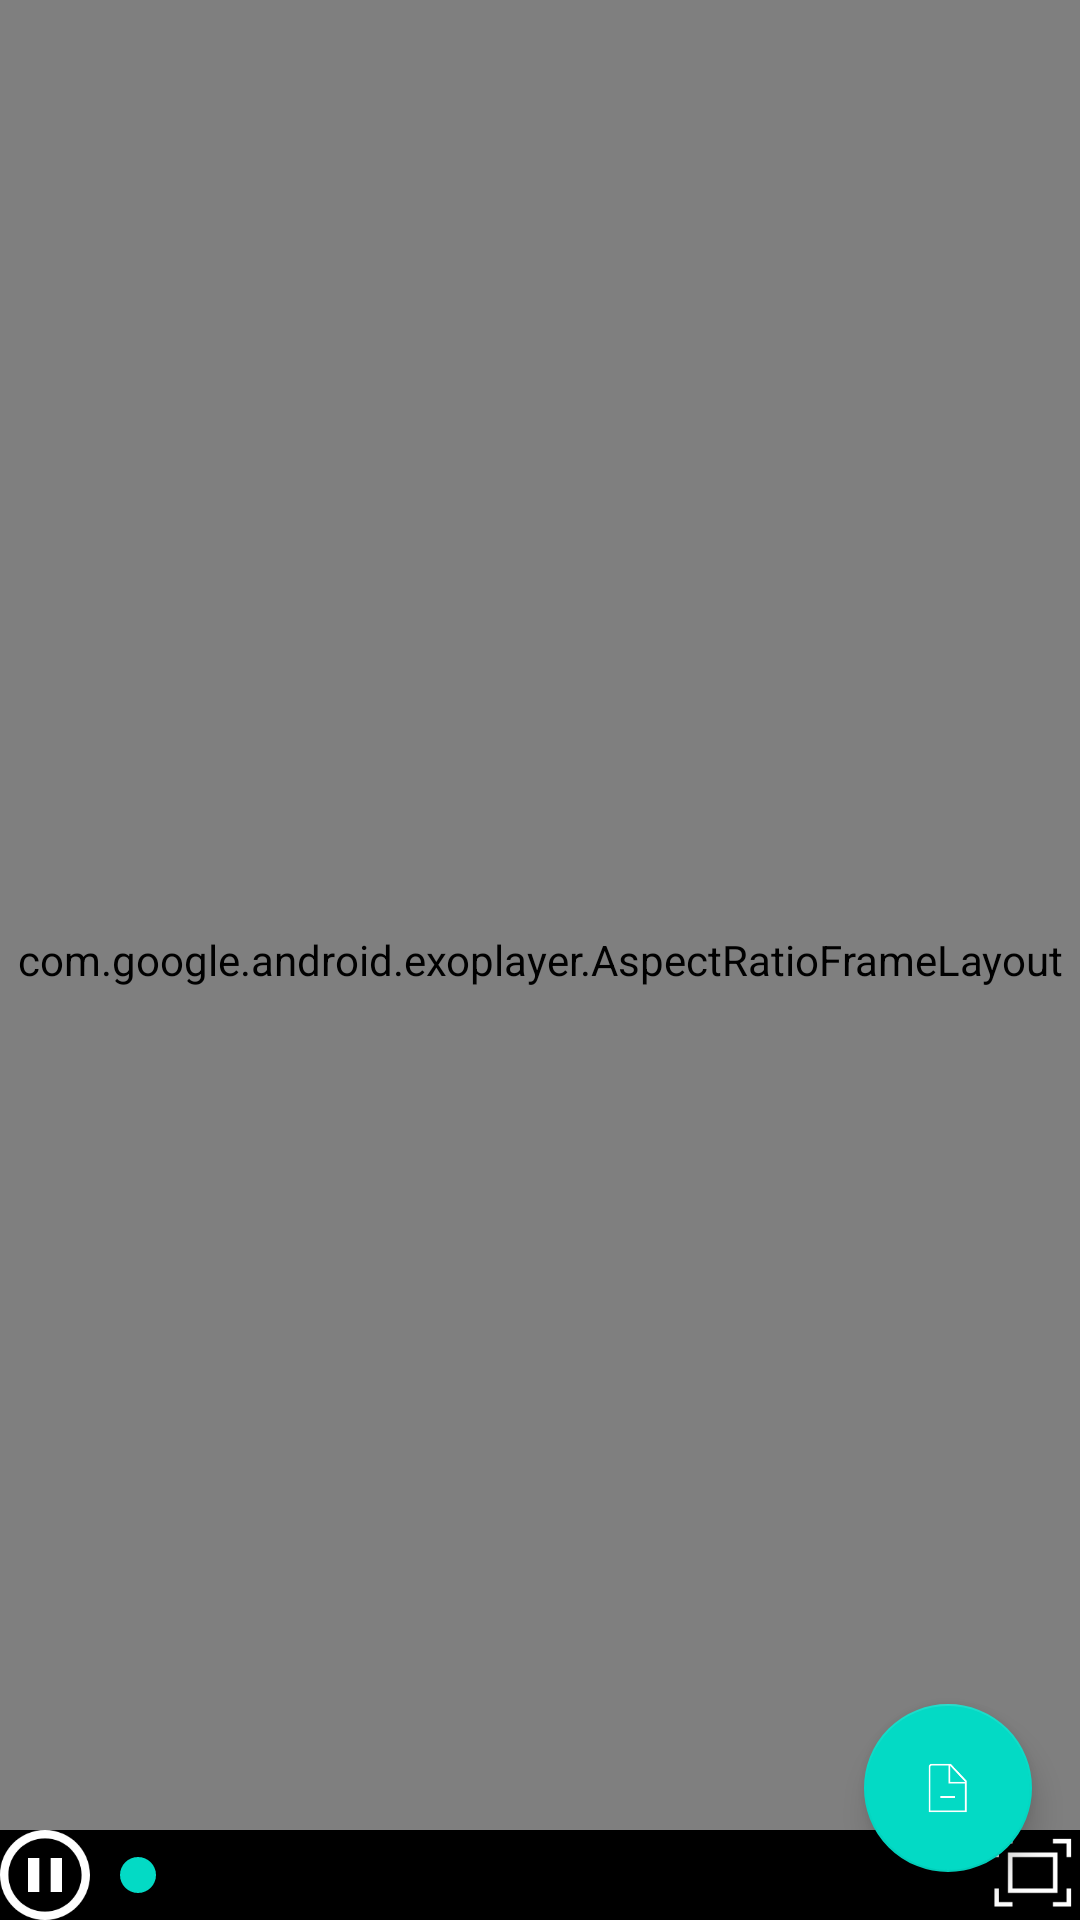

Named icons in this screenshot (1080*1920) and their centers, (x,y):
full: (1035,1875)
pause: (45,1875)
